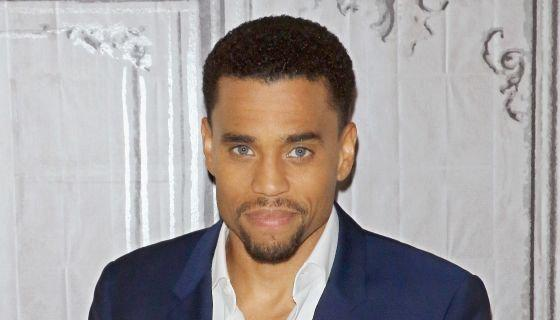Sober: (215, 71, 334, 241)
